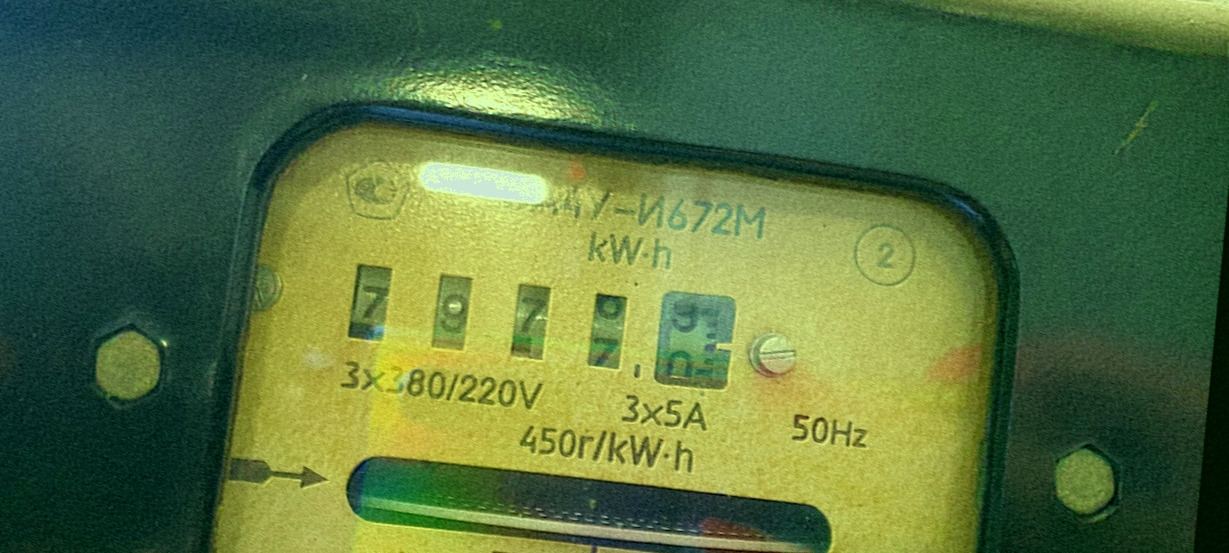0: (663, 344, 699, 386)
7: (357, 281, 391, 327), (516, 293, 550, 339), (589, 334, 622, 372)
9: (436, 290, 474, 338), (670, 297, 704, 336)
screen: (326, 240, 765, 416)
